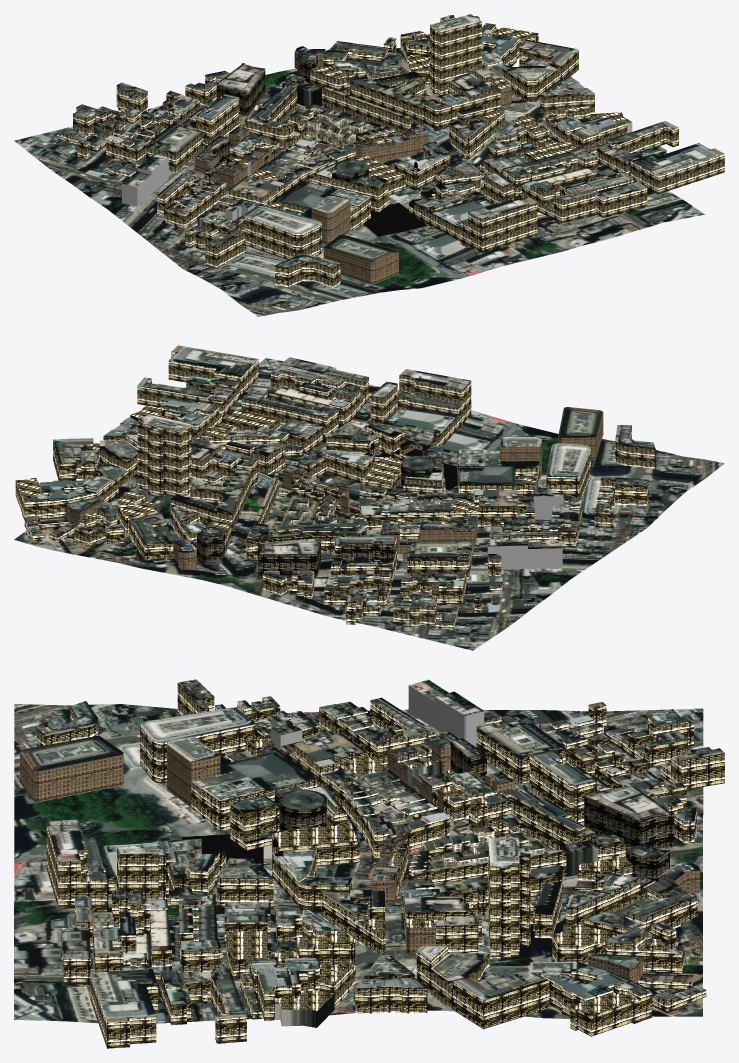
File: environment.fbx
The picture shows the model from 3 angles, top to bottom: view 1: azimuth 30°, elevation 25°; view 2: azimuth 150°, elevation 25°; view 3: azimuth 270°, elevation 25°; orthographic projection. The views are drawn at different scales.
Parts seen in each view (by area): view 1: map_3_osm_buildings, map_3_osm_buildings_001, environment_v2_terrain; view 2: map_3_osm_buildings, map_3_osm_buildings_001, environment_v2_terrain; view 3: map_3_osm_buildings, map_3_osm_buildings_001, environment_v2_terrain.
Part boxes in pixels (box(x1,y1,x2,y2)): map_3_osm_buildings: box(57, 18, 724, 287); map_3_osm_buildings_001: box(57, 14, 724, 268); environment_v2_terrain: box(14, 47, 704, 316); map_3_osm_buildings: box(15, 352, 655, 629); map_3_osm_buildings_001: box(23, 345, 655, 624); environment_v2_terrain: box(14, 358, 724, 650); map_3_osm_buildings: box(20, 683, 724, 1048); map_3_osm_buildings_001: box(20, 679, 724, 1027); environment_v2_terrain: box(14, 704, 703, 1023).
Bounding box in the file's own units: 47335 × 7858 × 41489.
